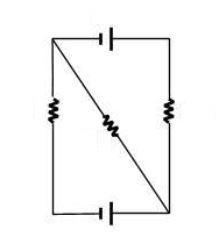resistor: (92, 100, 126, 147), (39, 87, 70, 128), (154, 86, 180, 130)
